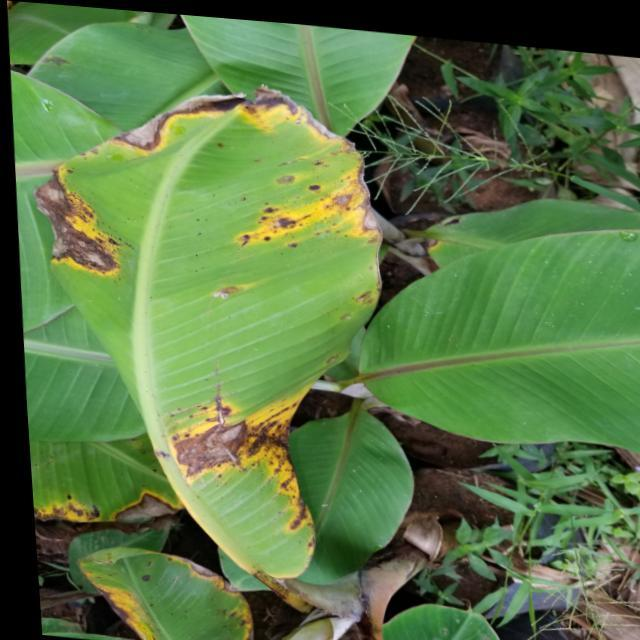Early_rust: (14, 63, 395, 301), (135, 371, 349, 552), (75, 537, 257, 640), (10, 464, 194, 543)
